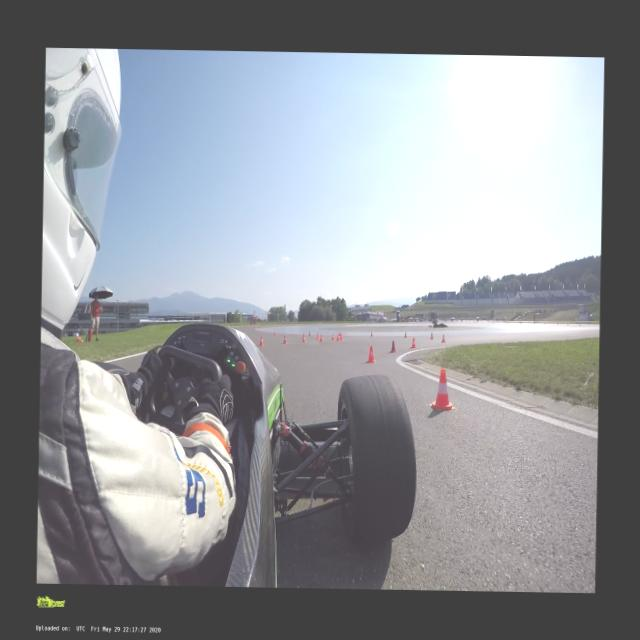orange_cone: (430, 368, 455, 410), (366, 345, 375, 362), (389, 340, 396, 352), (410, 337, 416, 348), (259, 336, 263, 346), (441, 334, 445, 342), (282, 335, 286, 343), (319, 333, 322, 341), (331, 332, 334, 340), (302, 332, 304, 342), (336, 333, 338, 341), (338, 332, 340, 340), (404, 330, 406, 338), (273, 330, 276, 335), (430, 332, 432, 339), (340, 333, 342, 340), (316, 332, 318, 339), (308, 330, 310, 336), (370, 331, 372, 336)
